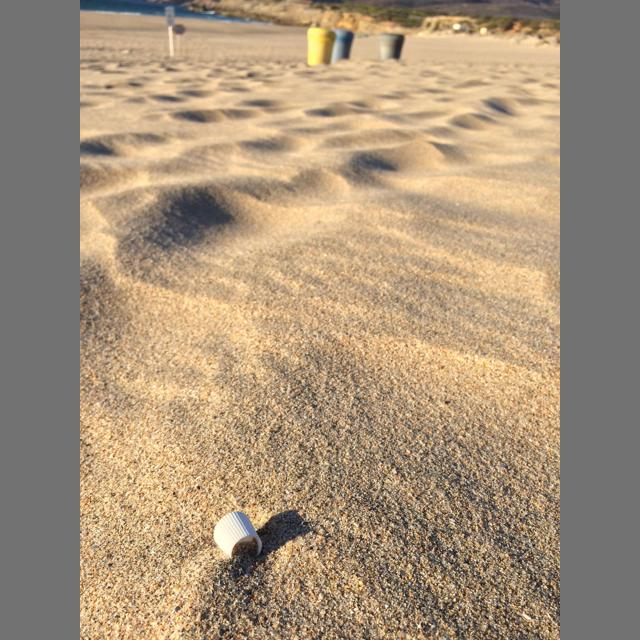litter: (214, 512, 262, 557)
